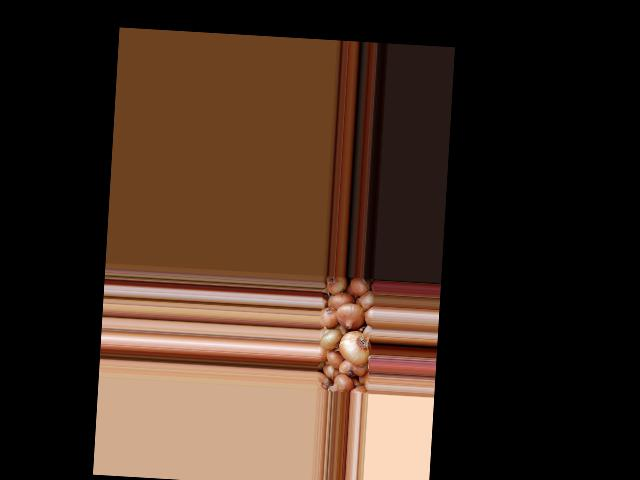onion: (327, 275, 347, 294)
